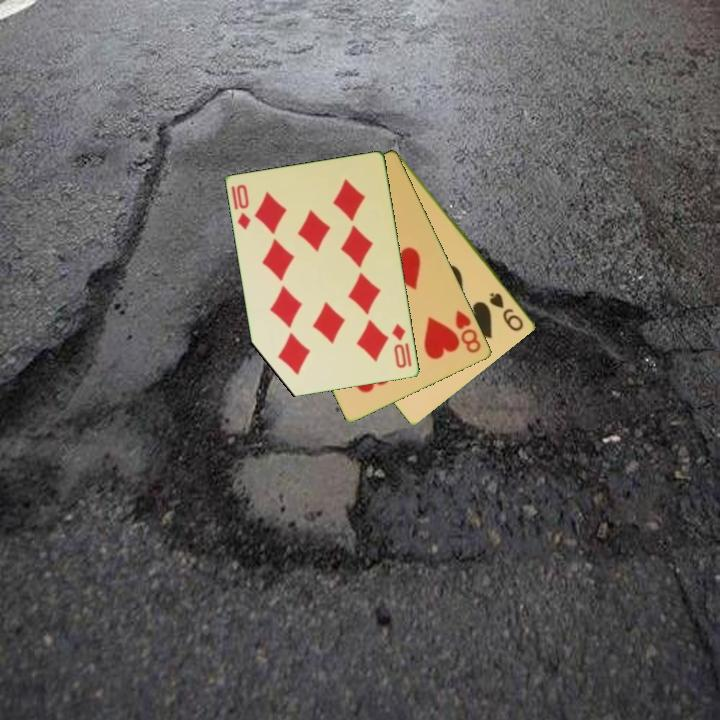10d: (228, 181, 254, 233), (389, 321, 410, 371)
8h: (452, 306, 484, 356)
9s: (486, 289, 527, 334)
